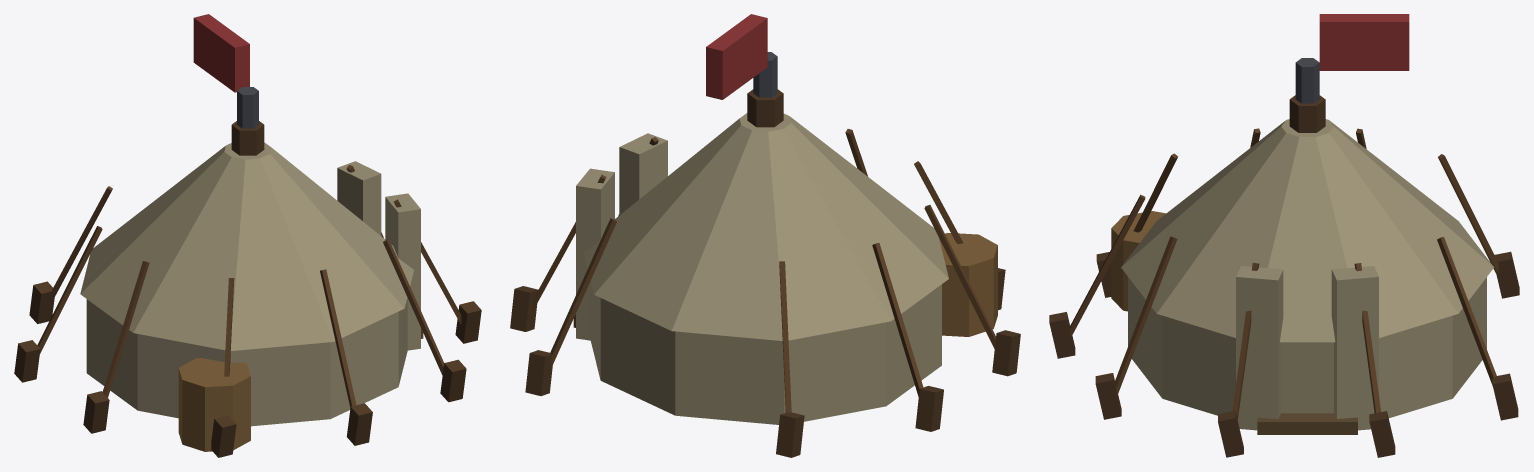
Rendered from tent_b.glb.
3 renders of one model, left to right at view 1: azimuth 30°, elevation 25°; view 2: azimuth 150°, elevation 25°; view 3: azimuth 270°, elevation 25°, orthographic. The views are drawn at different scales.
Parts seen in each view (by area): view 1: canvas, timber, leather, timber_light, cloth, iron; view 2: canvas, timber, leather, timber_light, cloth, iron; view 3: canvas, leather, timber, cloth, dirt, timber_light, iron.
Part boxes in pixels (box(x1,y1,x2,y2)): canvas: box(80, 142, 420, 426); timber: box(14, 121, 481, 457); leather: box(37, 165, 461, 407); timber_light: box(178, 358, 250, 451); cloth: box(193, 14, 249, 92); iron: box(237, 87, 258, 128); canvas: box(576, 113, 948, 424); timber: box(510, 89, 1020, 457); leather: box(532, 129, 995, 412); timber_light: box(939, 233, 997, 336); cloth: box(706, 14, 767, 99); iron: box(753, 52, 777, 97); canvas: box(1121, 119, 1493, 430); leather: box(1069, 128, 1498, 419); timber: box(1049, 95, 1519, 457); cloth: box(1319, 14, 1409, 70); dirt: box(1257, 413, 1357, 434); timber_light: box(1111, 211, 1165, 311); iron: box(1295, 58, 1319, 103).
Bounding box in the file's own units: 40.55 × 31.12 × 39.31.
